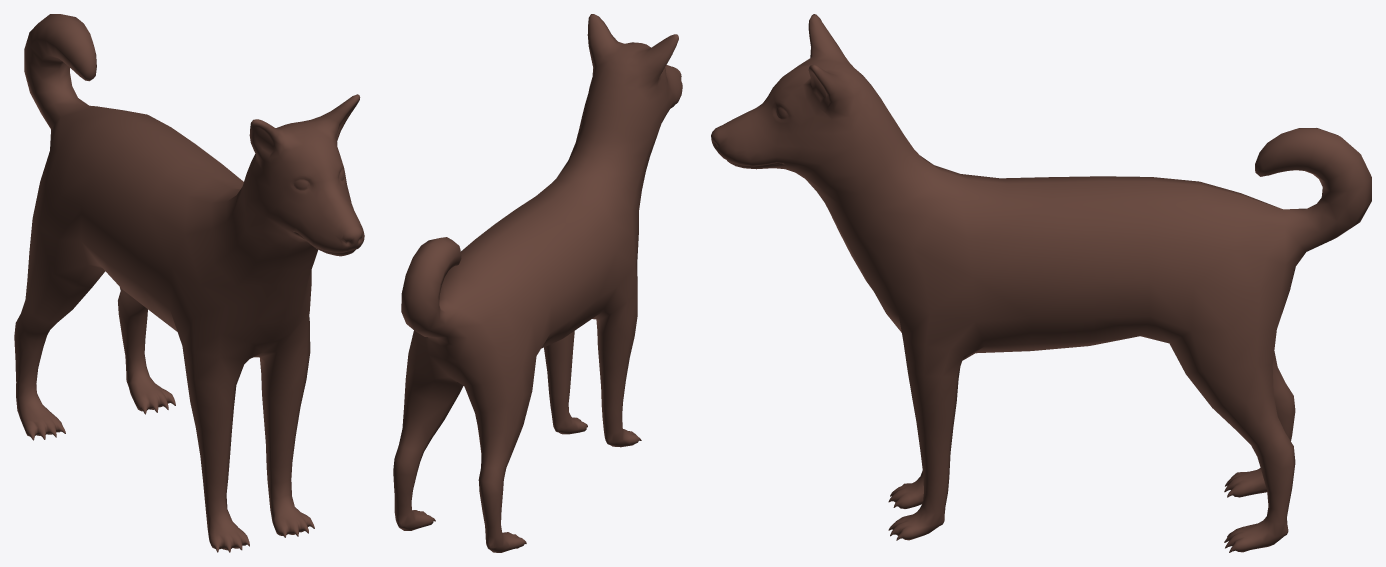
Rendered from Dog.fbx.
3 views of the same model, side by side, from view 1: azimuth 30°, elevation 25°; view 2: azimuth 150°, elevation 25°; view 3: azimuth 270°, elevation 25° (orthographic). The views are drawn at different scales.
Visible parts, largest first — view 1: Dog_v1; view 2: Dog_v1; view 3: Dog_v1.
Boxes of the visible parts, bbox=[...] form: Dog_v1: bbox=[14, 14, 364, 552]; Dog_v1: bbox=[393, 14, 682, 552]; Dog_v1: bbox=[711, 14, 1371, 552].
Size of the model in its own units: 21.54 by 65.28 by 81.7.
